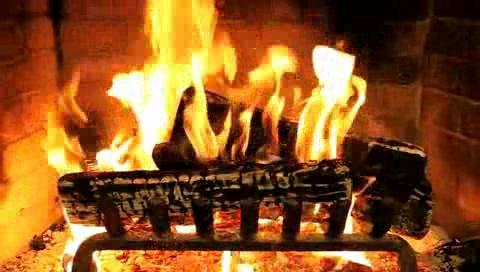fire: (110, 4, 363, 171)
